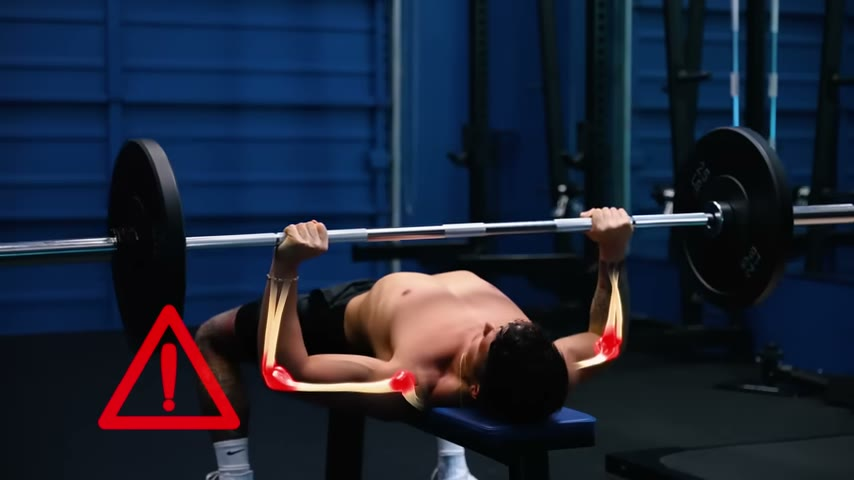barbell_plate_side: (647, 117, 803, 386)
